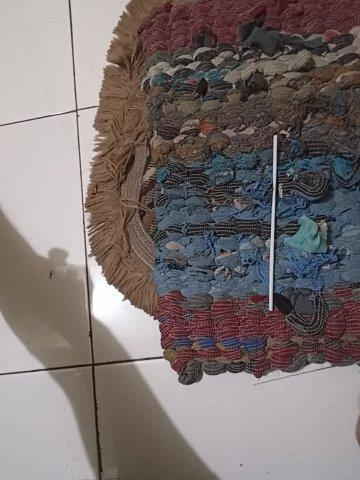sedotan: (269, 136, 277, 310)
